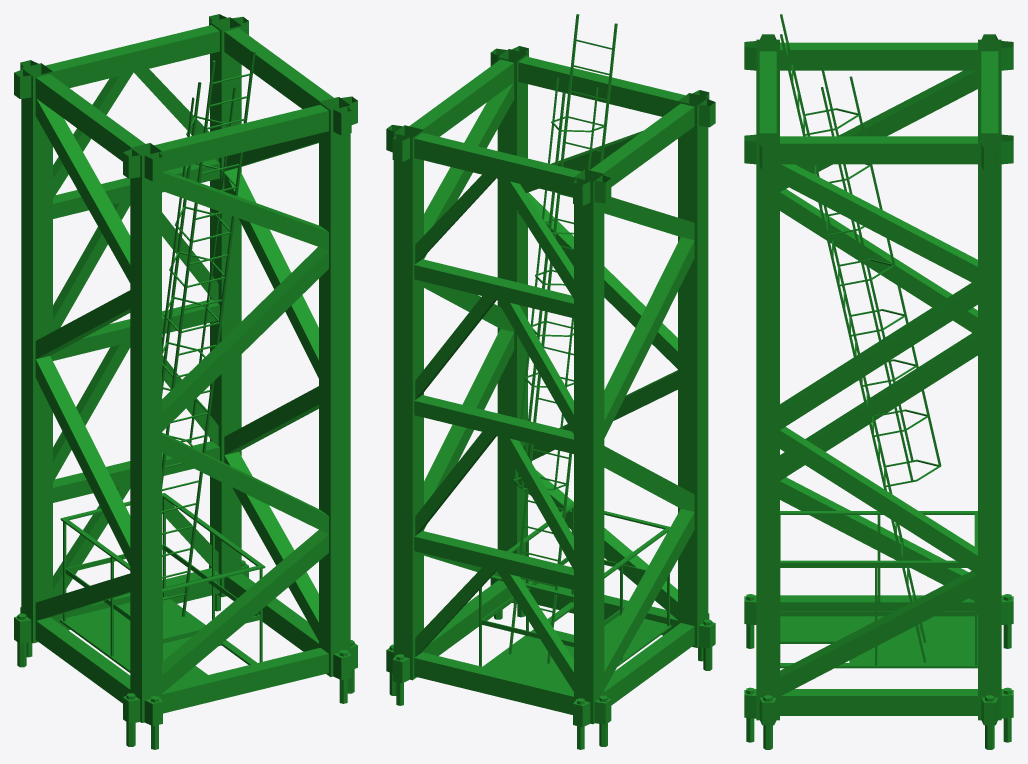
Rendered from towerCrane_tower.fbx.
3 views of the same model, side by side, from view 1: azimuth 30°, elevation 25°; view 2: azimuth 150°, elevation 25°; view 3: azimuth 270°, elevation 25° (orthographic). The views are drawn at different scales.
Parts seen in each view (by area): view 1: towerCrane_tower; view 2: towerCrane_tower; view 3: towerCrane_tower.
Boxes of the visible parts, left/top/right/bottom form: towerCrane_tower: left=14, top=14, right=357, bottom=749; towerCrane_tower: left=386, top=14, right=715, bottom=749; towerCrane_tower: left=744, top=14, right=1013, bottom=749.
Bounding box in the file's own units: 286 × 783 × 286.
